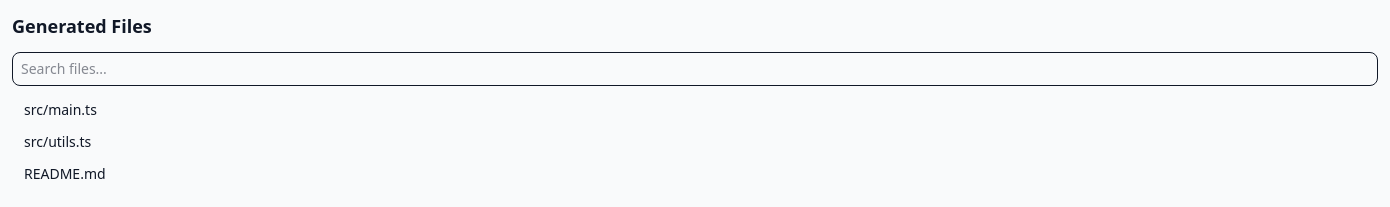
Test: FileTree › filters files by search query
The image size is (1390, 207).
Expected: the button "src/main.ts" is shown, [12,94,268,126]
Expected: the button "src/utils.ts" is shown, [12,126,268,158]
Type "src" into the field with placeholder "Search files..." at (695, 69), box [12,52,1378,86]
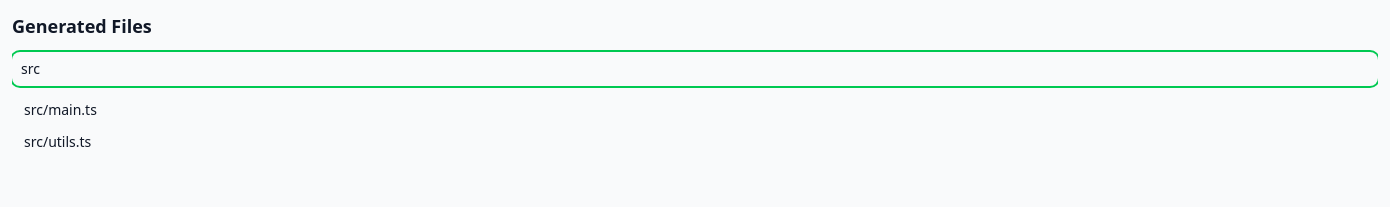
Expected: the button "src/main.ts" is shown, [12,94,268,126]
Now the button "README.md" is gone
